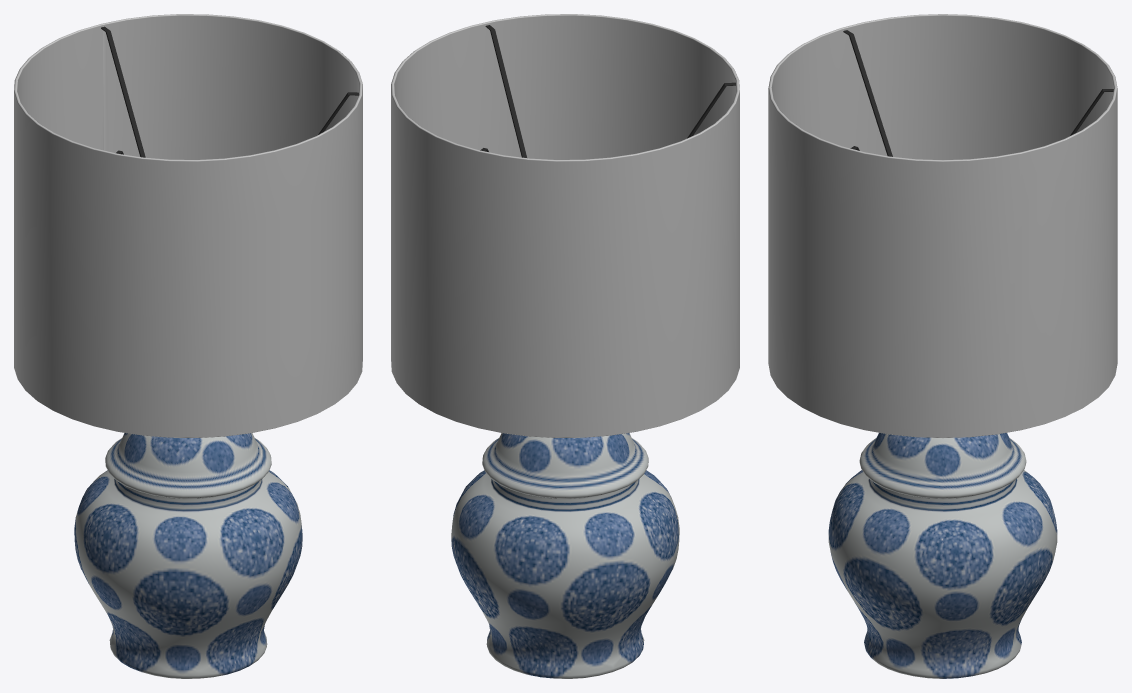
3 views of the same model, side by side, from view 1: azimuth 30°, elevation 25°; view 2: azimuth 150°, elevation 25°; view 3: azimuth 270°, elevation 25° (orthographic).
Parts seen in each view (by area): view 1: RootNode; view 2: RootNode; view 3: RootNode.
Part boxes in pixels (x1,y1,x2,y2): RootNode: [14, 14, 362, 678]; RootNode: [391, 14, 739, 678]; RootNode: [768, 14, 1117, 678].
Size of the model in its own units: 0.2151 by 0.381 by 0.2149.
Materials: 1 (1 with a texture image).
